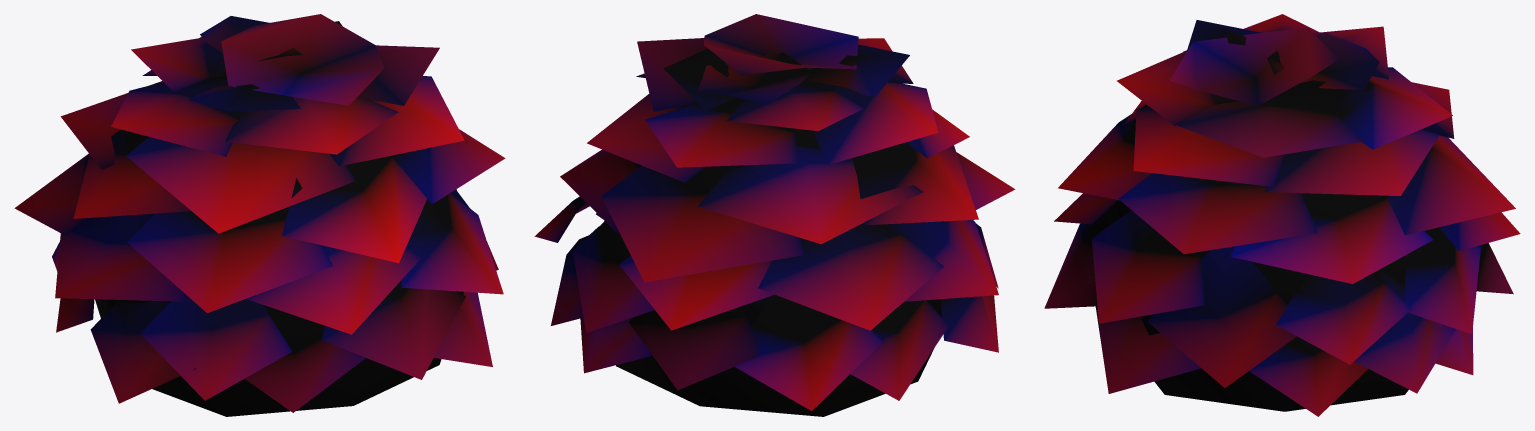
Rendered from env_autumn_berryshrub.fbx.
3 renders of one model, left to right at view 1: azimuth 30°, elevation 25°; view 2: azimuth 150°, elevation 25°; view 3: azimuth 270°, elevation 25°, orthographic. The views are drawn at different scales.
Parts seen in each view (by area): view 1: env_autumn_berryshrub_geo; view 2: env_autumn_berryshrub_geo; view 3: env_autumn_berryshrub_geo.
Part boxes in pixels (bbox=[...]): env_autumn_berryshrub_geo: bbox=[14, 14, 505, 416]; env_autumn_berryshrub_geo: bbox=[534, 14, 1015, 416]; env_autumn_berryshrub_geo: bbox=[1044, 14, 1520, 416].
Bounding box in the file's own units: 88.74 × 59.04 × 85.42.
